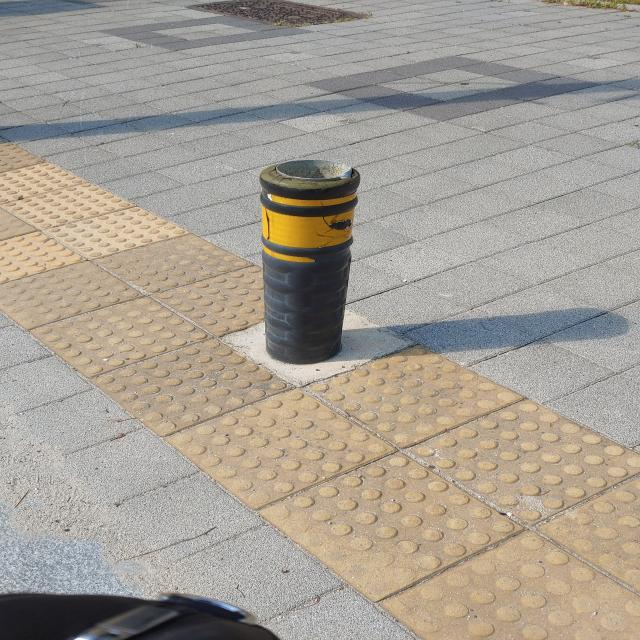pole: (258, 159, 360, 364)
